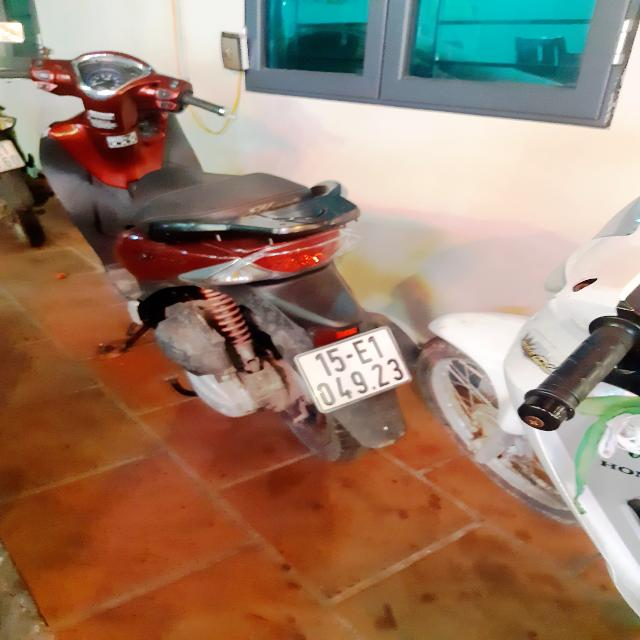license_plate: (284, 320, 424, 421)
